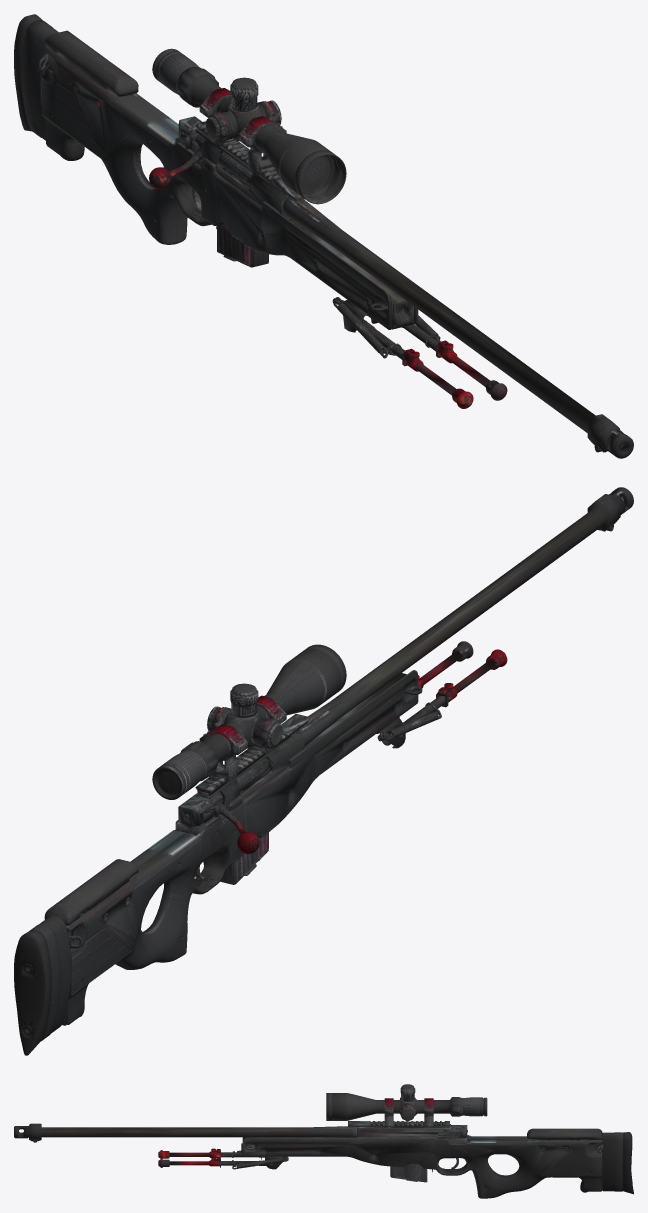
Rendered from Meshy_AI__0310164825_texture.glb.
The picture shows the model from 3 angles, top to bottom: view 1: azimuth 30°, elevation 25°; view 2: azimuth 150°, elevation 25°; view 3: azimuth 270°, elevation 25°; orthographic projection. The views are drawn at different scales.
Size of the model in its own units: 0.1659 by 0.3913 by 2.
Materials: 1 (1 with a texture image).
